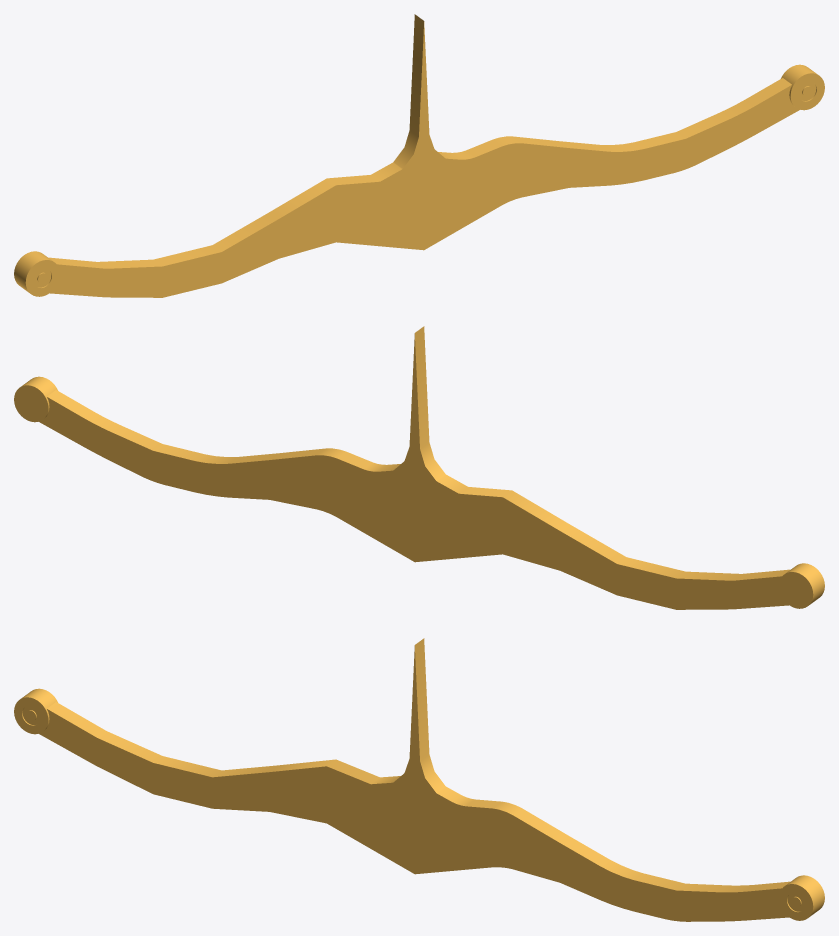
The model's file is scale_arm.fbx.
The picture shows the model from 3 angles, top to bottom: view 1: azimuth 30°, elevation 25°; view 2: azimuth 150°, elevation 25°; view 3: azimuth 330°, elevation 25°; orthographic projection.
Parts seen in each view (by area): view 1: ScaleArm; view 2: ScaleArm; view 3: ScaleArm.
Boxes of the visible parts, <box> form: ScaleArm: <box>14,14,824,297</box>; ScaleArm: <box>14,326,824,609</box>; ScaleArm: <box>14,638,824,921</box>.
Size of the model in its own units: 277 by 75.87 by 7.04.
